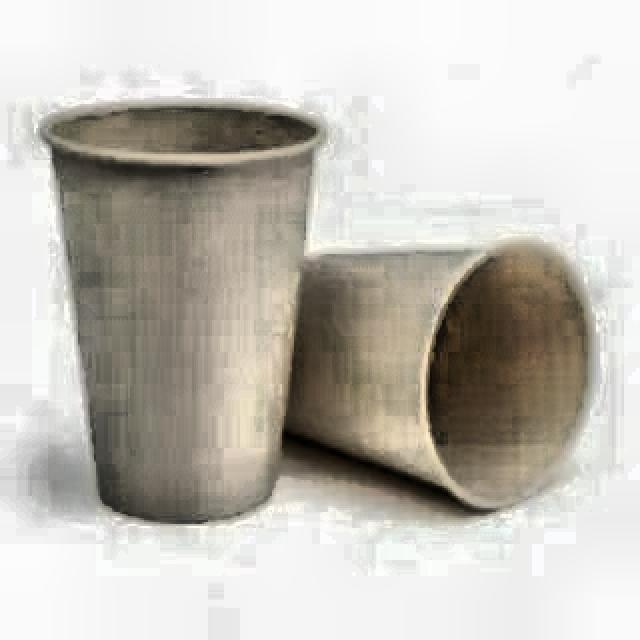Cup: (41, 90, 314, 536), (201, 221, 604, 515)
